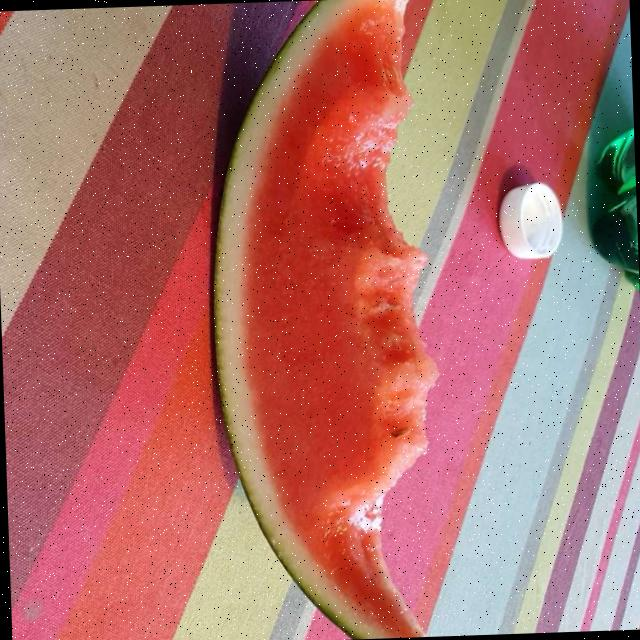watermelon-fresh: (226, 7, 435, 604)
